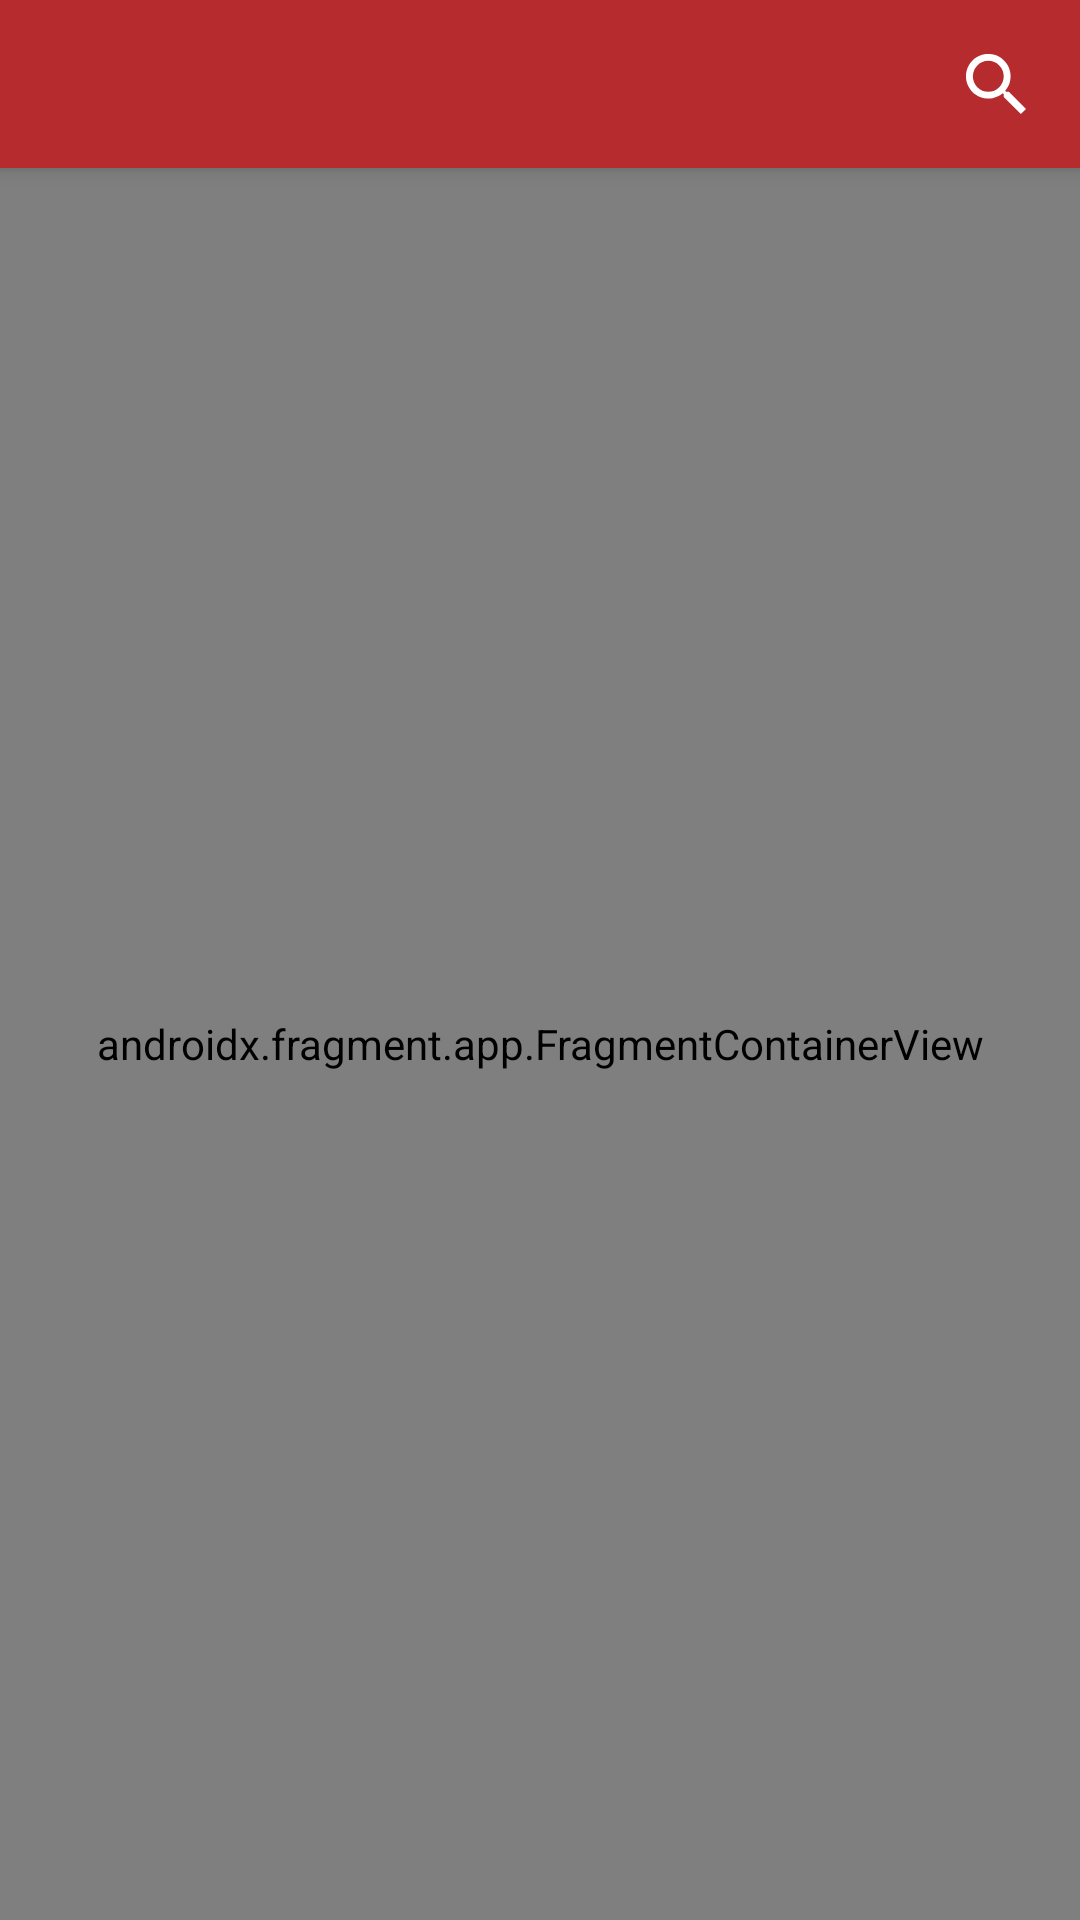

Named icons in this screenshot (1080*1920) and their bounding boxes, (x1, y1, x2, y2):
search: (966, 54, 1026, 114)
